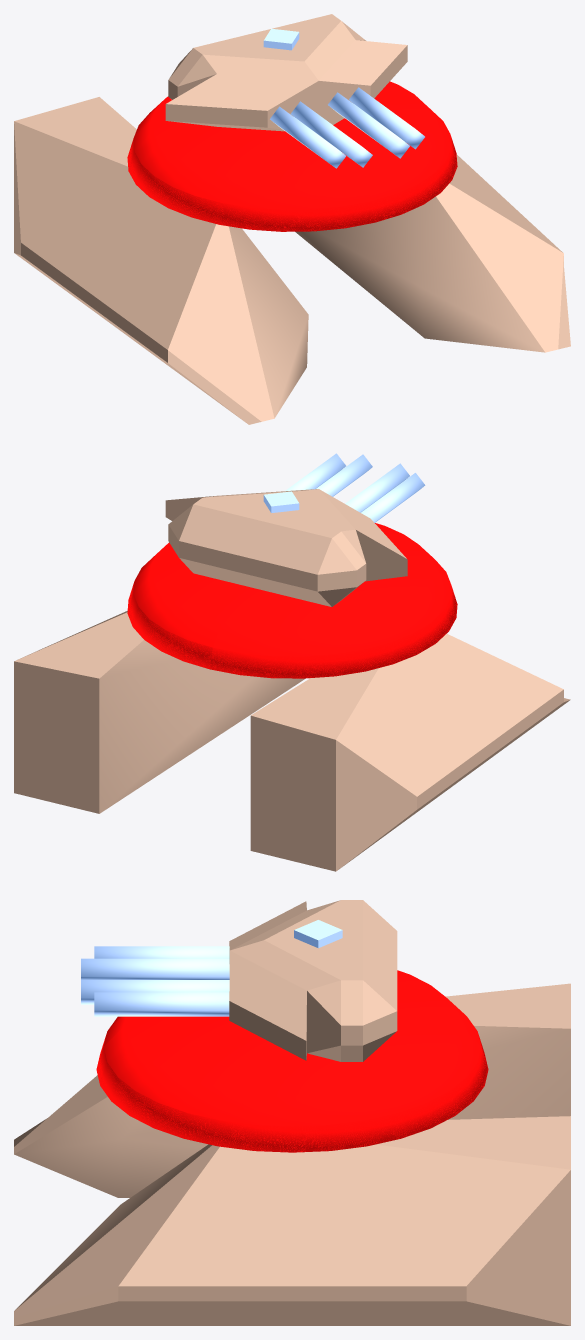
Rendered from obj_tank.fbx.
3 renders of one model, top to bottom at view 1: azimuth 30°, elevation 25°; view 2: azimuth 150°, elevation 25°; view 3: azimuth 270°, elevation 25°, orthographic. The views are drawn at different scales.
Visible parts, largest first — view 1: obj_tank; view 2: obj_tank; view 3: obj_tank.
Part boxes in pixels (x1,y1,x2,y2): obj_tank: (14, 14, 570, 424); obj_tank: (14, 453, 570, 871); obj_tank: (14, 900, 570, 1325).
Bounding box in the file's own units: 160 × 98.81 × 165.
